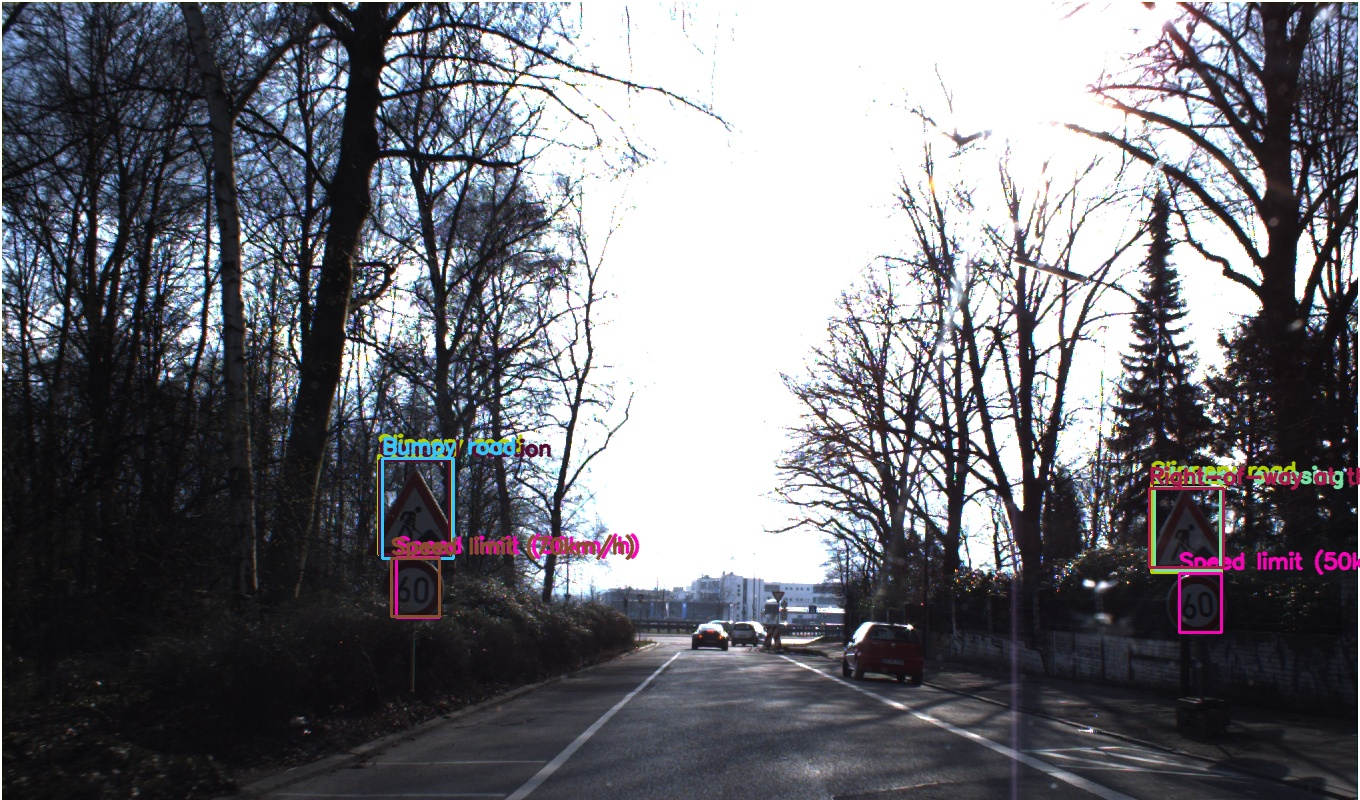Speed limit (50km/h): (968, 384, 1004, 421)
